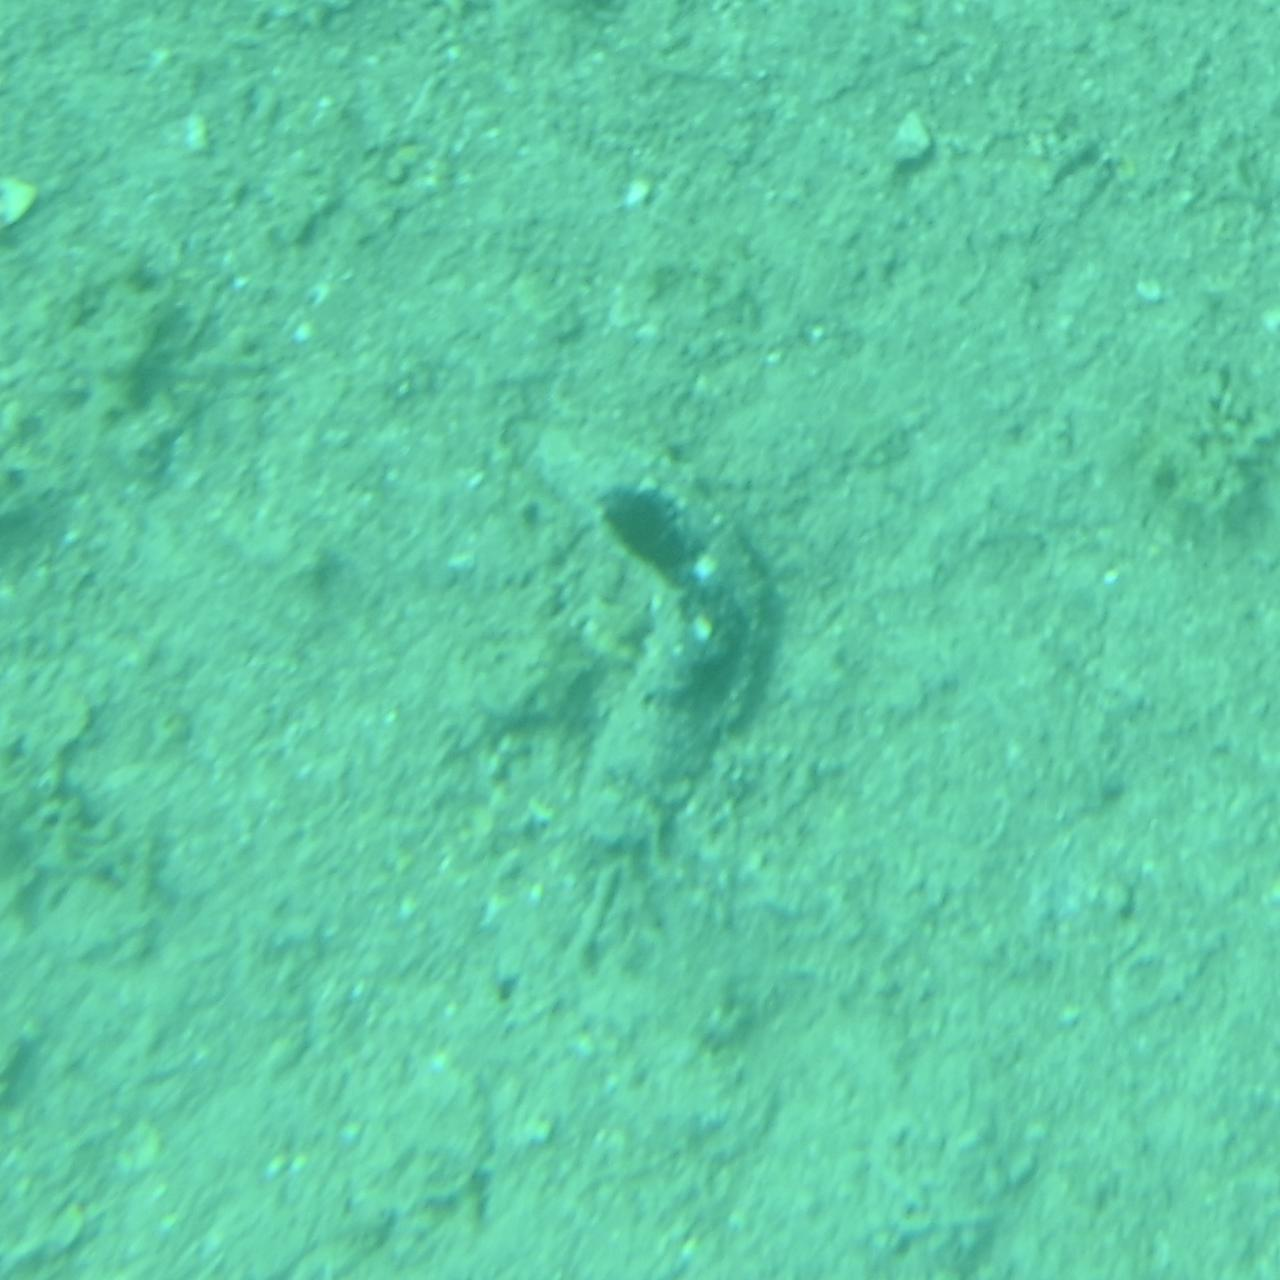Holothuria tubulosa: (496, 398, 784, 882)
